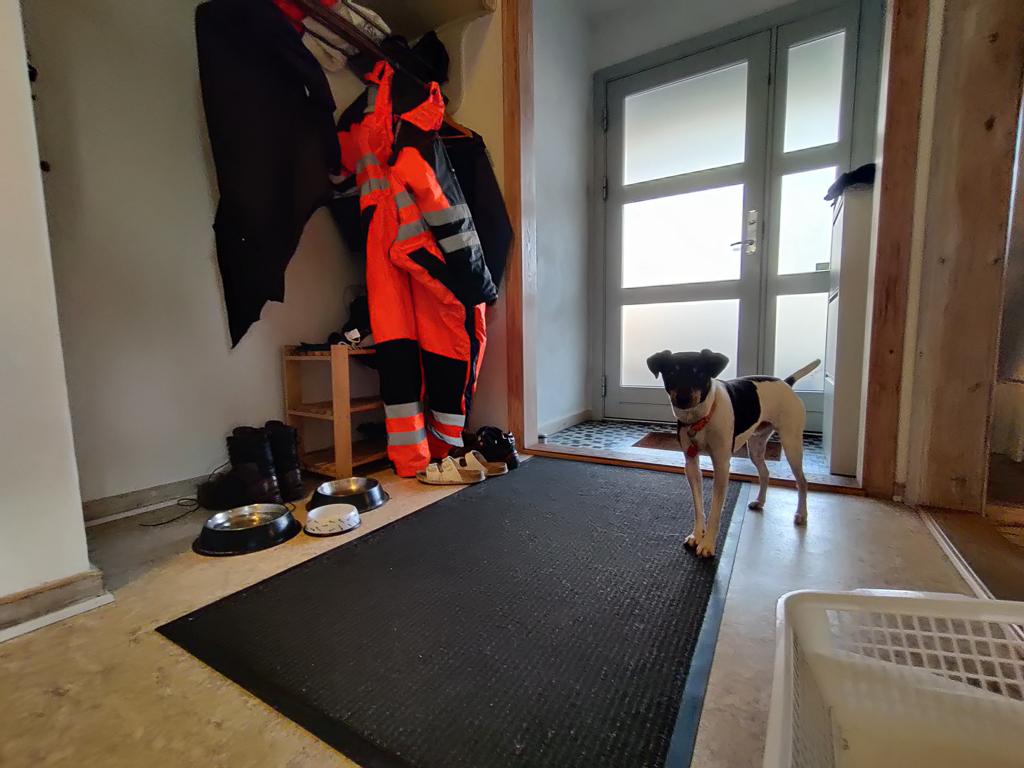Dog: (630, 332, 832, 579)
